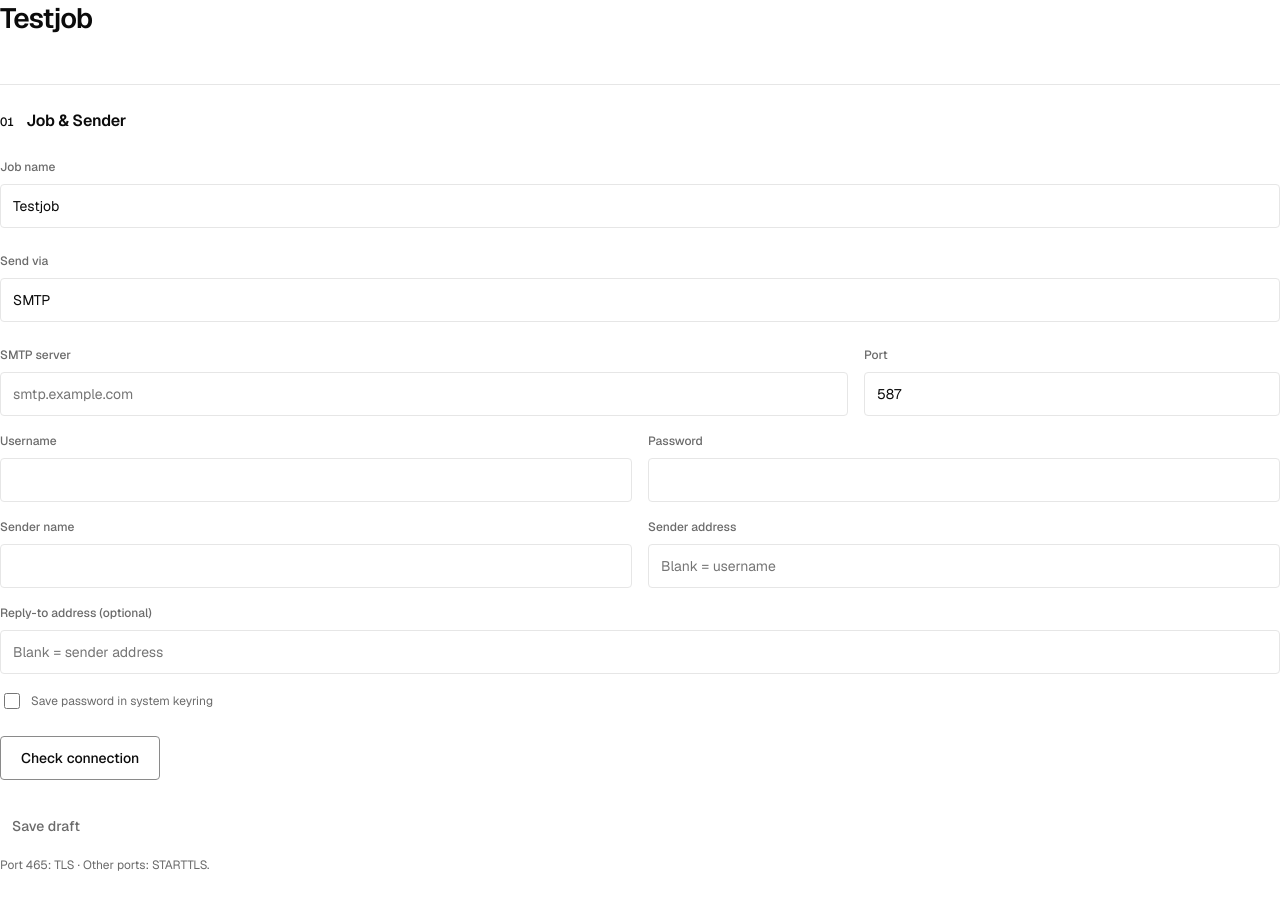
Test: Google account setup › connects without a JSON import and keeps sending locked
The image size is (1280, 900).
Select "Google / Workspace" in the dropdown labelled "Send via": (640, 300) [0,278,1279,322]
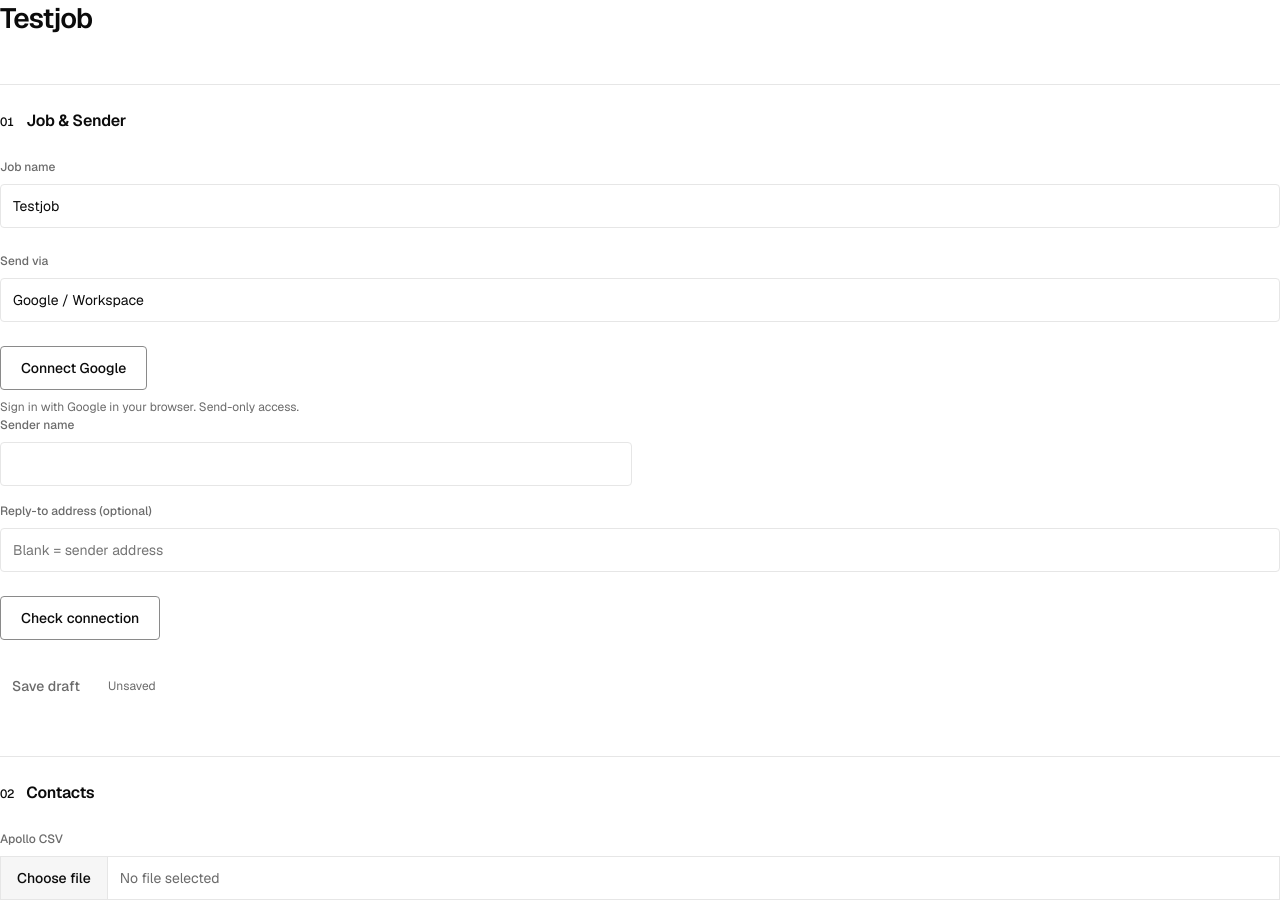
Now the text labelled "Password" is gone
Now the button "Connect Google" is enabled
Click the button "Connect Google": (74, 368) [0,346,147,390]
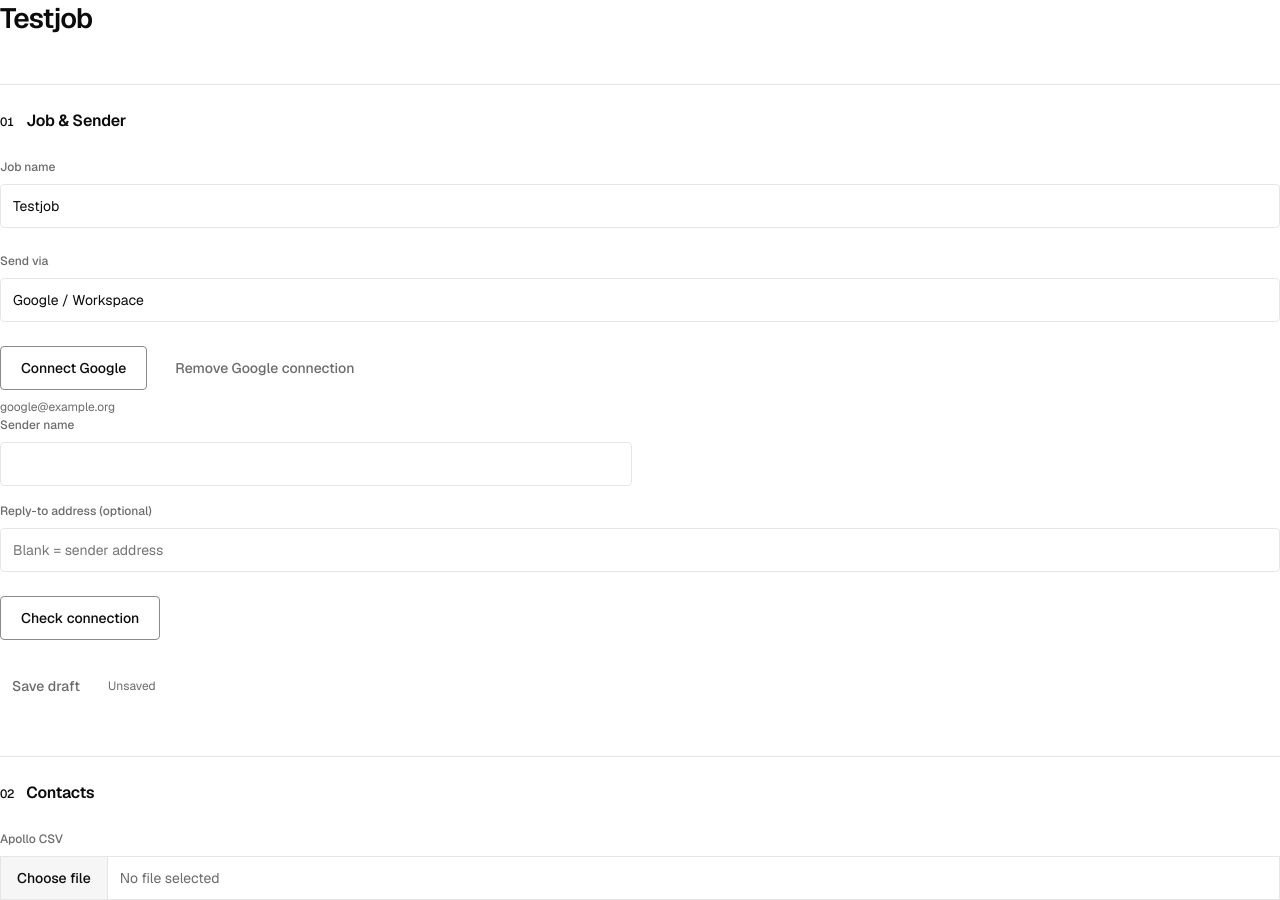
Now the text "google@example.org" is shown, box [0,399,115,415]
Click the button "Check connection": (80, 618) [0,596,160,640]
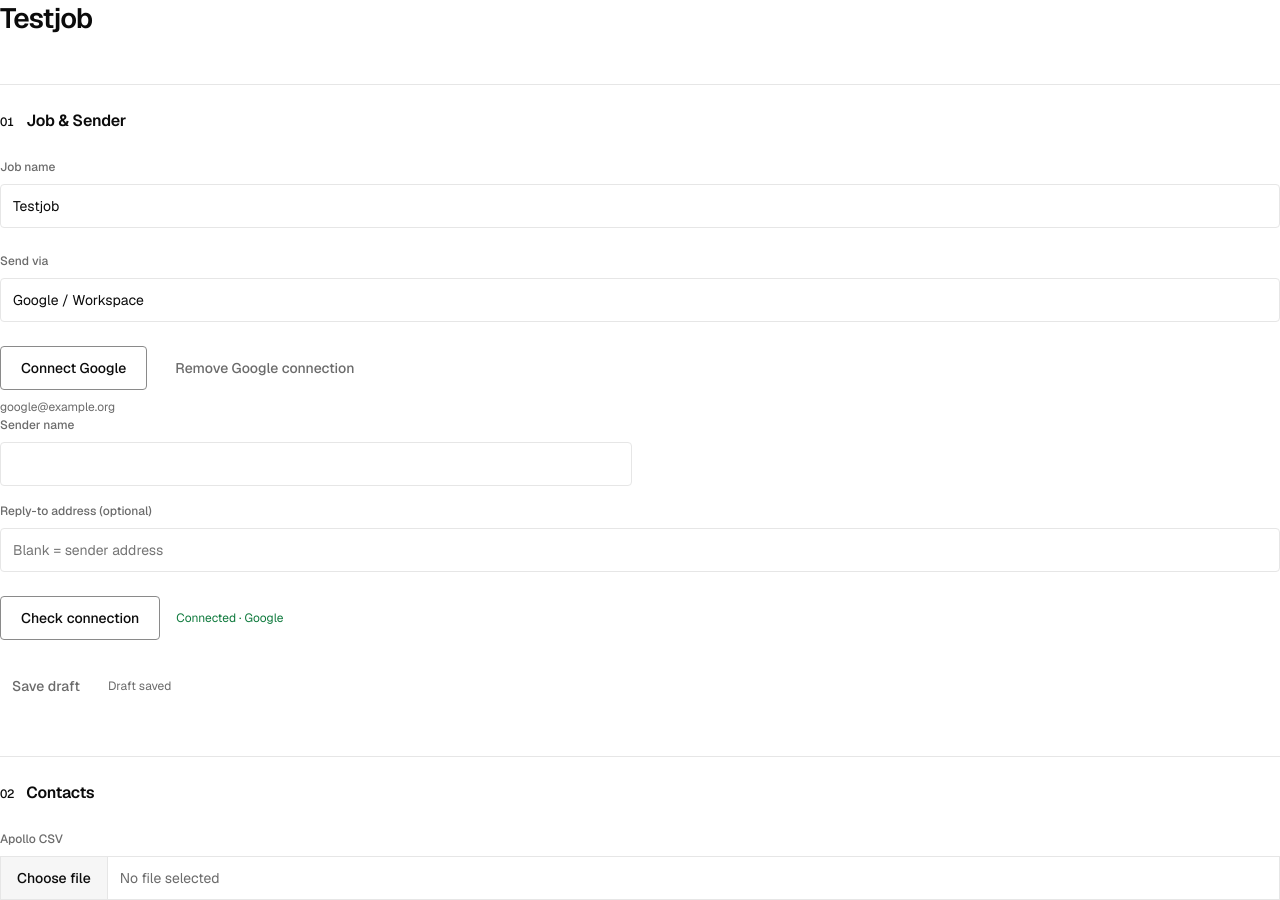
Now the text "Connected · Google" is shown, box [176,609,284,627]
Click the button "Remove Google connection": (265, 368) [163,346,366,390]
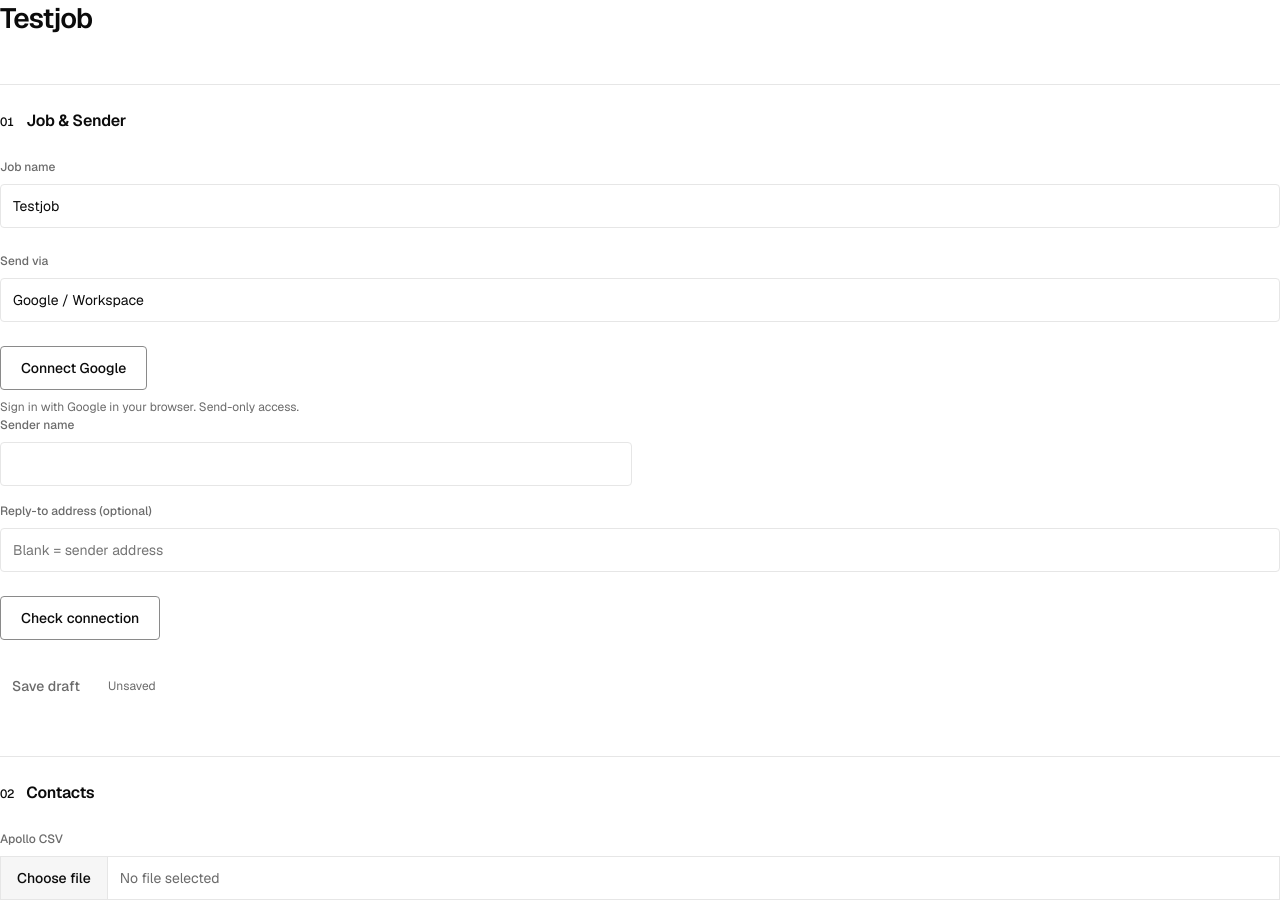
Now the text "google@example.org" is gone
